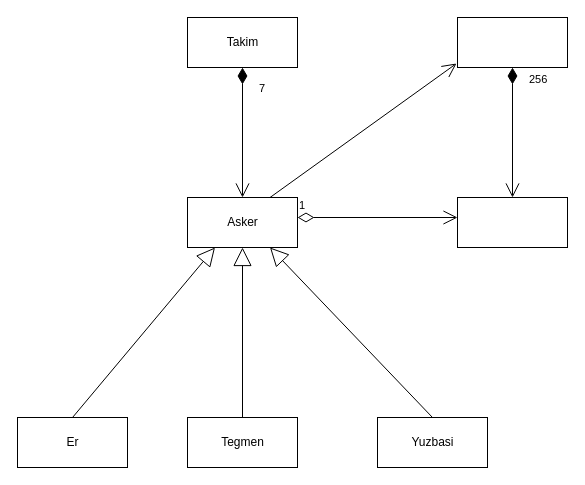
This 585x485 diagram has some shape labels left out. Here are the shapes that lost their labels. From the top down, the centre of each, then its label:
At (512,42): "Harita".
At (512,222): "Nokta".
